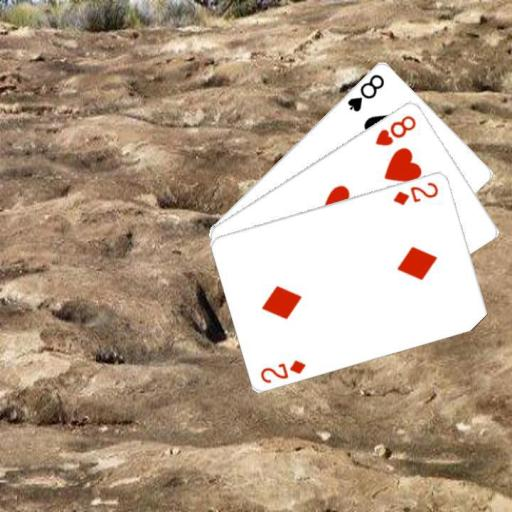2D: (258, 356, 308, 385), (391, 179, 441, 206)
8H: (372, 112, 418, 147)
8S: (344, 70, 386, 113)
